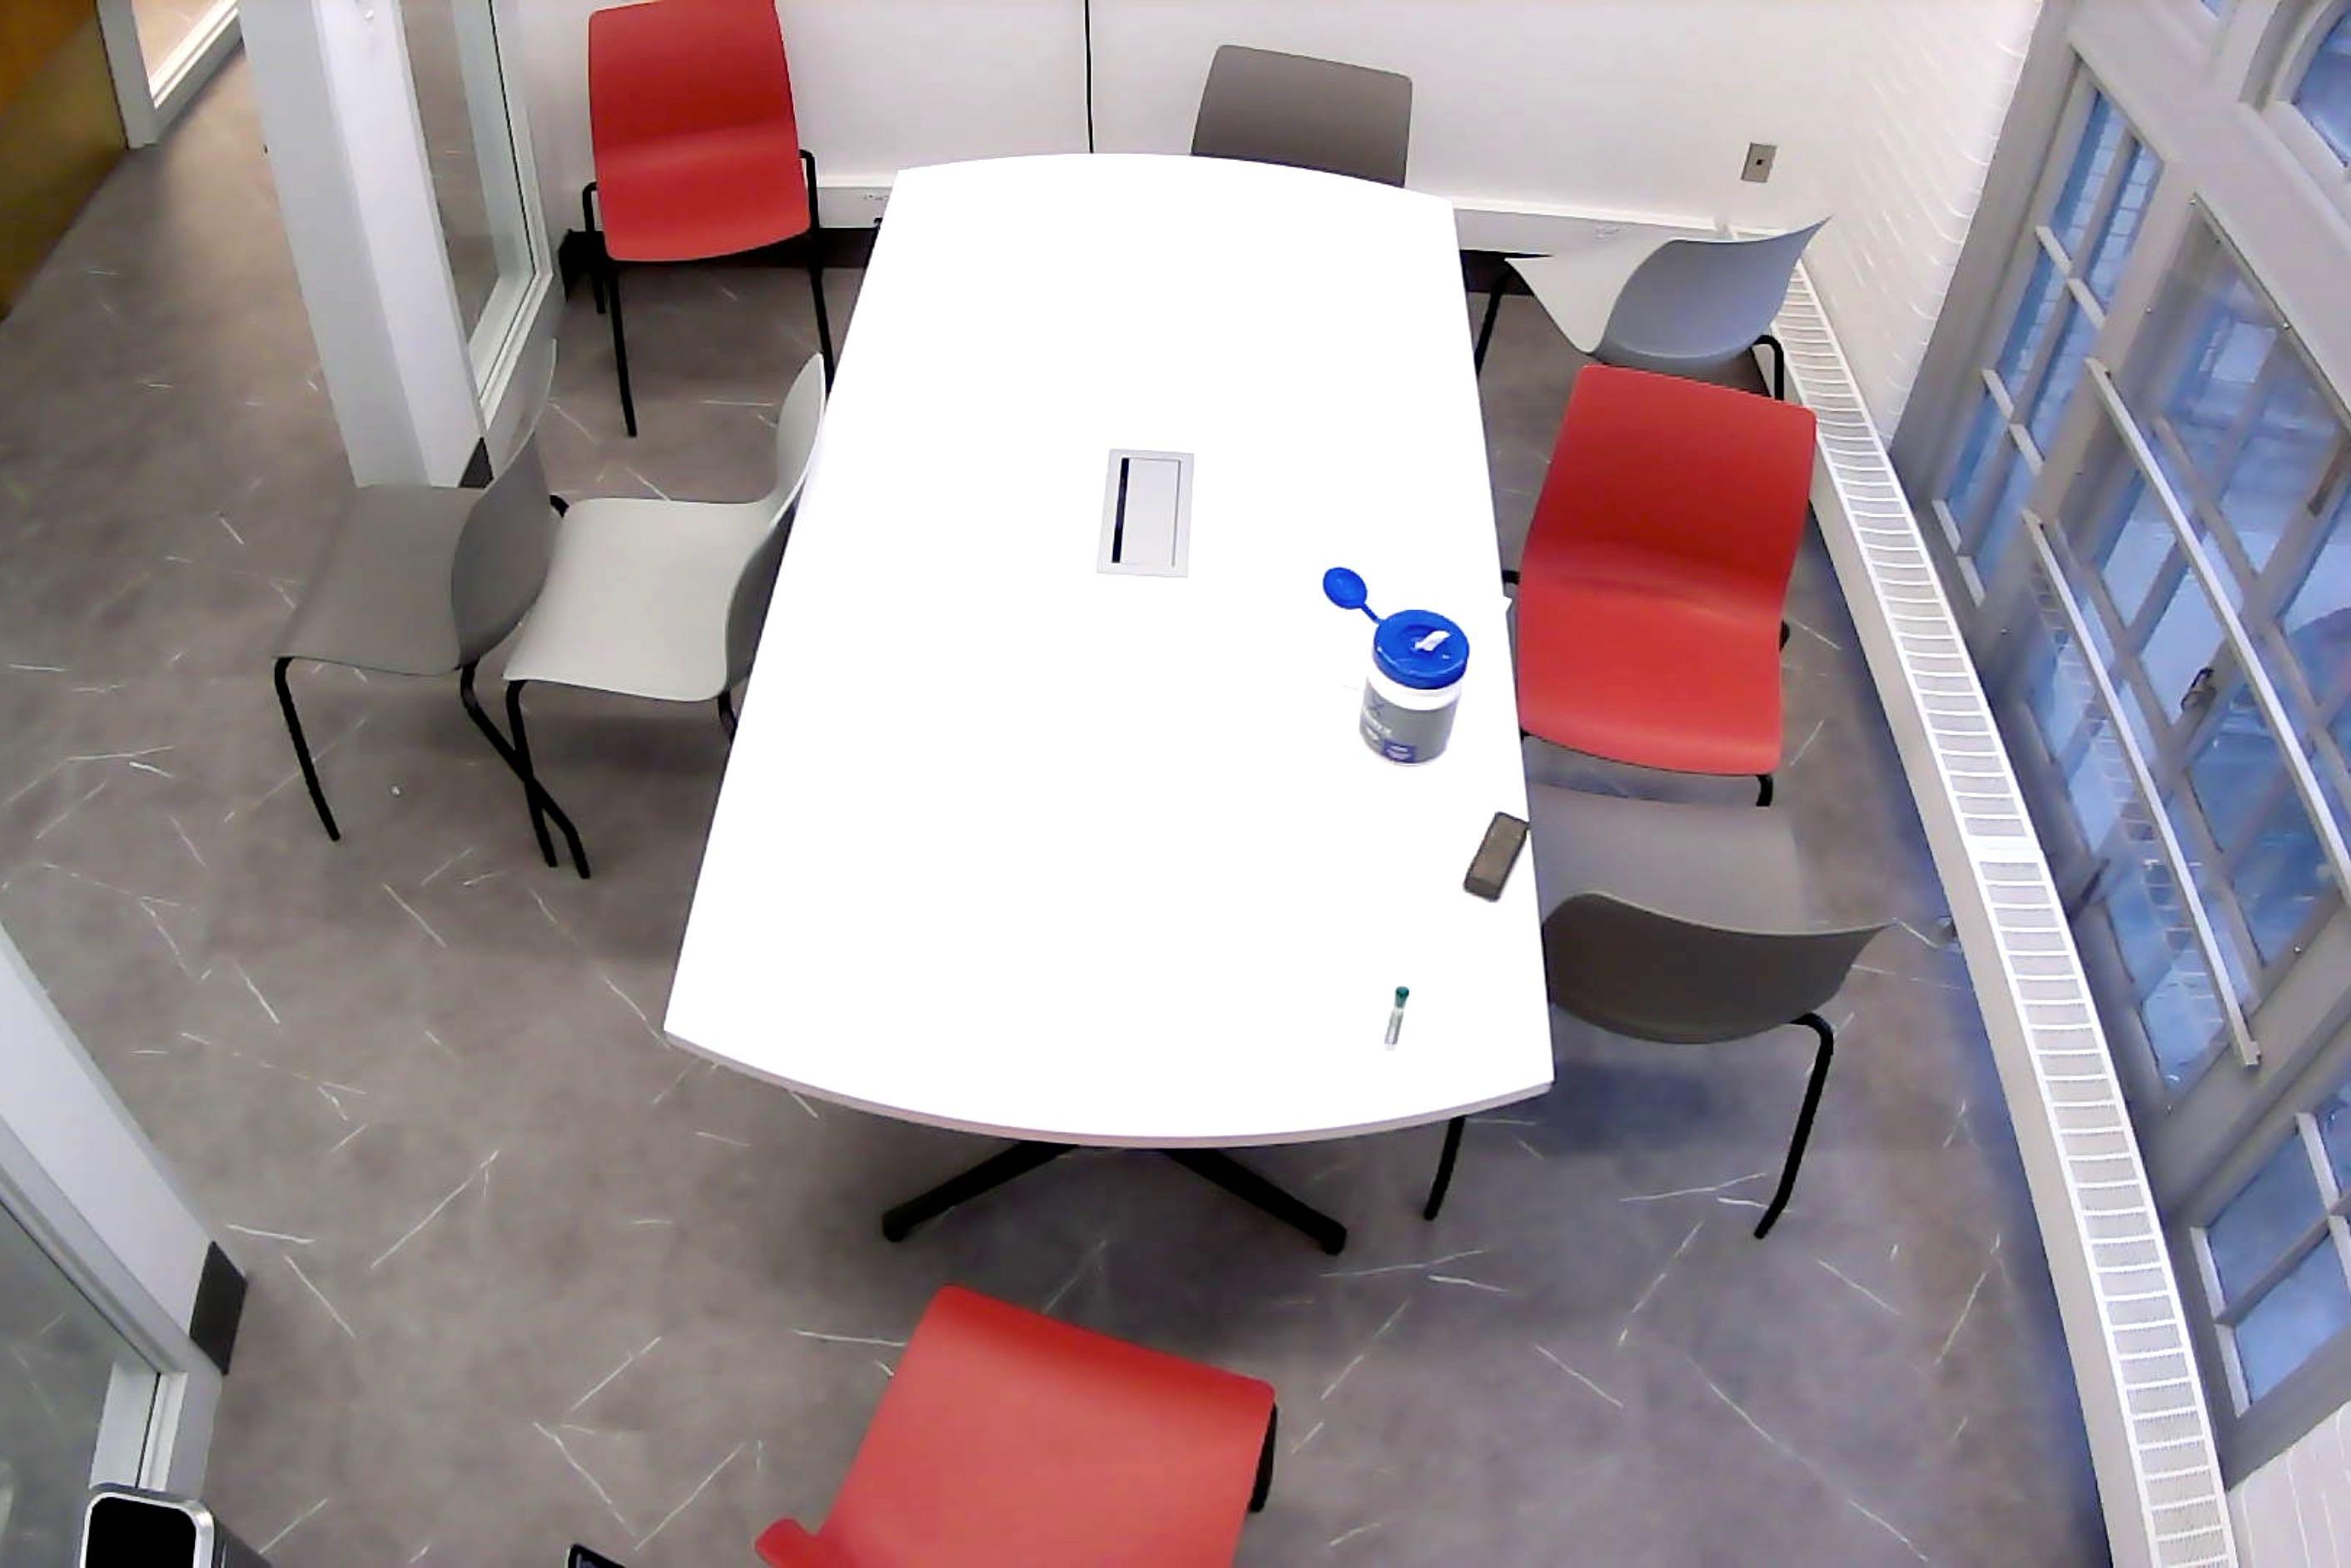Chair: (1421, 779, 1903, 1242), (273, 341, 588, 880), (502, 354, 823, 870), (758, 1281, 1280, 1568), (1504, 361, 1824, 807), (586, 7, 844, 441), (1481, 208, 1835, 406), (1187, 42, 1416, 194)
Dining Table: (663, 152, 1561, 1258)
